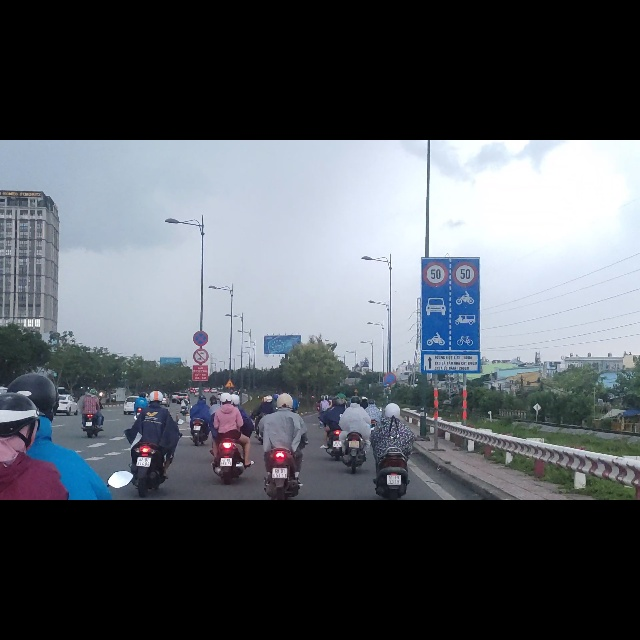bien_nguy_hiem: (421, 263, 480, 376), (421, 211, 449, 261), (451, 212, 479, 262), (193, 339, 209, 366), (193, 370, 209, 397), (385, 413, 396, 435), (225, 424, 235, 440)
